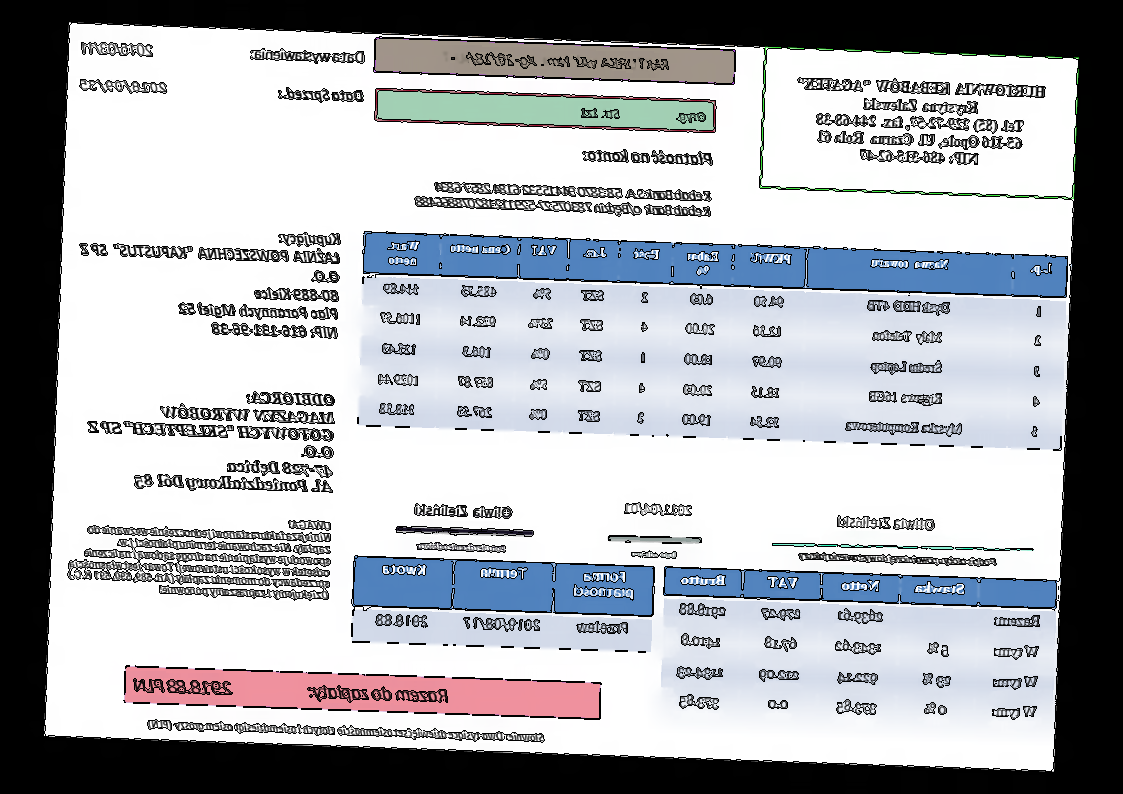Table: (356, 231, 1070, 451), (659, 566, 1059, 732), (351, 554, 656, 654)
TextBox: (75, 222, 344, 342), (83, 383, 339, 498), (792, 69, 1050, 174), (64, 508, 334, 602), (145, 713, 548, 747), (413, 177, 714, 219), (132, 673, 452, 707), (439, 48, 675, 74), (796, 547, 1000, 571), (248, 43, 367, 70), (581, 146, 716, 169), (577, 103, 710, 126), (833, 511, 939, 534), (77, 76, 171, 98), (413, 501, 516, 521), (276, 84, 366, 106), (79, 39, 156, 59), (414, 539, 509, 555), (623, 500, 694, 520), (630, 548, 680, 560)
